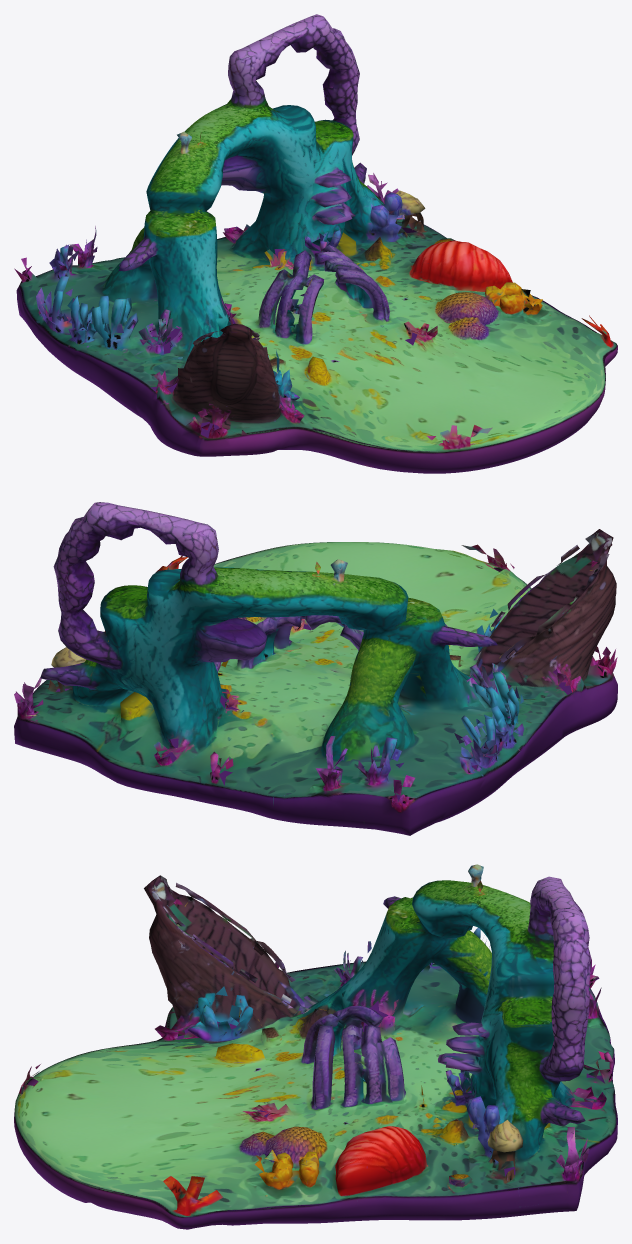
File: FondomarinoModel.fbx
3 renders of one model, top to bottom at view 1: azimuth 30°, elevation 25°; view 2: azimuth 150°, elevation 25°; view 3: azimuth 270°, elevation 25°, orthographic. The views are drawn at different scales.
Visible parts, largest first — view 1: FondoLow; view 2: FondoLow; view 3: FondoLow.
Boxes of the visible parts, x1,y1,x2,y2 form: FondoLow: (14, 14, 617, 473); FondoLow: (14, 502, 617, 835); FondoLow: (14, 864, 617, 1229).
Size of the model in its own units: 97.24 by 51.73 by 107.
